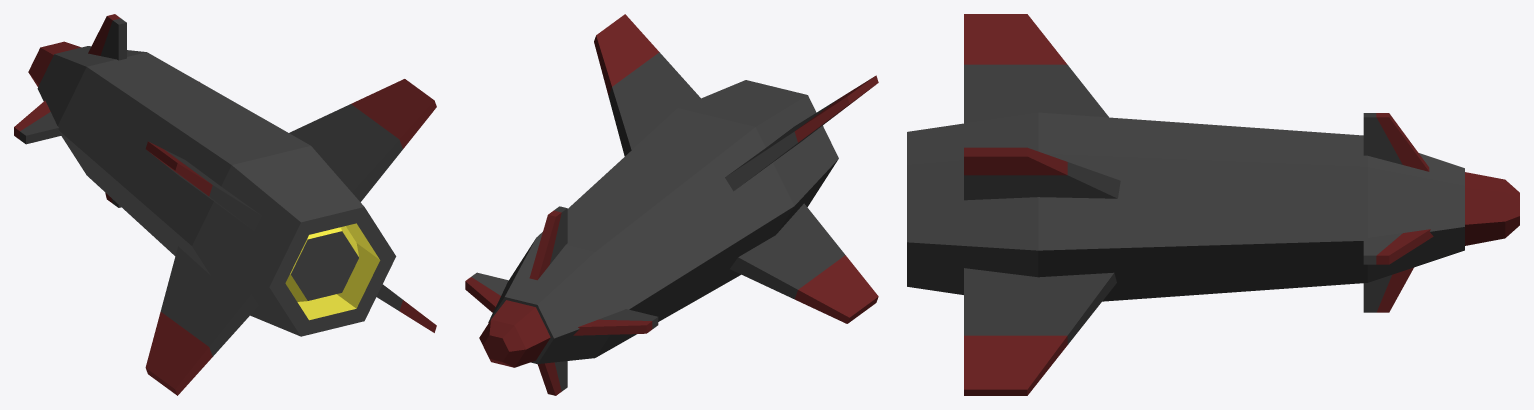
File: missile.fbx
The picture shows the model from 3 angles, left to right: view 1: azimuth 30°, elevation 25°; view 2: azimuth 150°, elevation 25°; view 3: azimuth 270°, elevation 25°; orthographic projection. The views are drawn at different scales.
Visible parts, largest first — view 1: engine_airplane%_0, wing_diagonalFin_4, wing_diagonalFin_5, wing_diagonalFin_3, wing_endLong_13, wing_endLong_15, engine_airplane%_8, wing_diagonalFin_6; view 2: engine_airplane%_0, wing_diagonalFin_4, wing_diagonalFin_5, engine_airplane%_8, wing_diagonalFin_3, wing_endLong_13, wing_endLong_15, wing_endLong_16, wing_endLong_14; view 3: engine_airplane%_0, wing_diagonalFin_6, wing_diagonalFin_3, wing_diagonalFin_5, engine_airplane%_8, wing_endLong_13, wing_endLong_16, wing_endLong_14.
Boxes of the visible parts, <box> form: engine_airplane%_0: <box>37,46,396,336</box>; wing_diagonalFin_4: <box>145,246,258,395</box>; wing_diagonalFin_5: <box>289,79,436,202</box>; wing_diagonalFin_3: <box>145,141,261,230</box>; wing_endLong_13: <box>88,14,126,60</box>; wing_endLong_15: <box>14,100,61,144</box>; engine_airplane%_8: <box>28,41,81,86</box>; wing_diagonalFin_6: <box>376,284,436,332</box>; engine_airplane%_0: <box>488,80,838,364</box>; wing_diagonalFin_4: <box>730,203,878,323</box>; wing_diagonalFin_5: <box>594,14,700,156</box>; engine_airplane%_8: <box>479,300,550,367</box>; wing_diagonalFin_3: <box>725,75,878,191</box>; wing_endLong_13: <box>529,206,567,280</box>; wing_endLong_15: <box>573,309,658,335</box>; wing_endLong_16: <box>465,272,508,312</box>; wing_endLong_14: <box>537,361,567,395</box>; engine_airplane%_0: <box>907,112,1464,301</box>; wing_diagonalFin_6: <box>964,268,1116,395</box>; wing_diagonalFin_3: <box>964,14,1108,123</box>; wing_diagonalFin_5: <box>964,147,1120,200</box>; engine_airplane%_8: <box>1465,172,1519,245</box>; wing_endLong_13: <box>1363,113,1429,171</box>; wing_endLong_16: <box>1363,229,1433,264</box>; wing_endLong_14: <box>1363,267,1413,312</box>.
Size of the model in its own units: 12.69 by 10.79 by 24.14.
